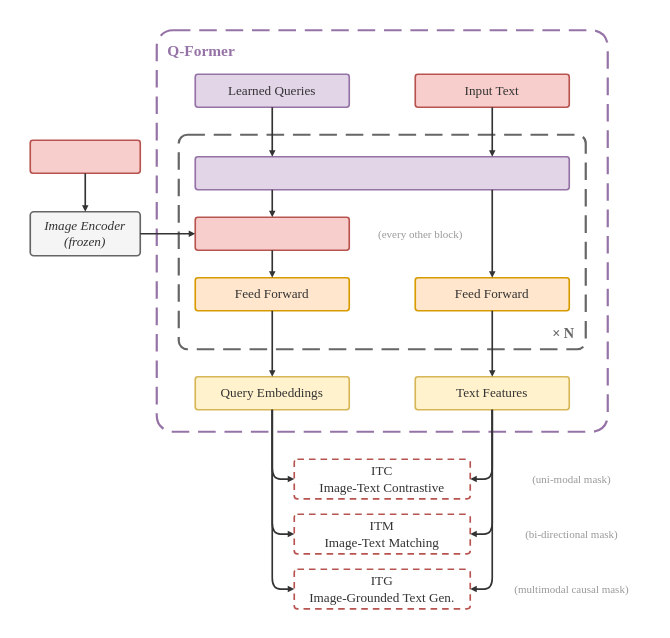
This 670x638 diagram has some shape labels left out. The shapes that lost their labels are listed below. From the top down, each one's centre as x and y in pixels, then its label:
the point at 85,156: Image
the point at 382,172: Shared Self-Attention
the point at 272,233: Cross-Attention
